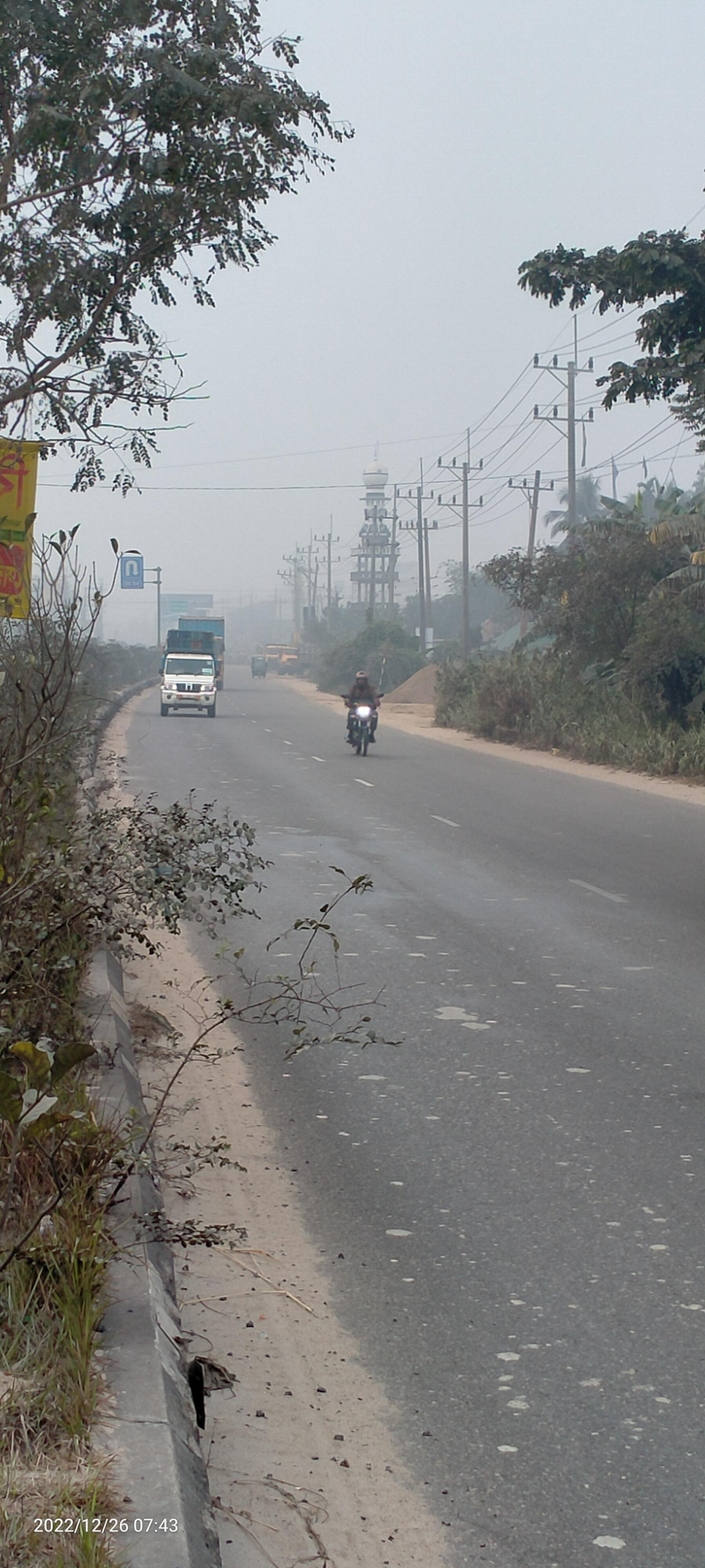Bike: (336, 661, 394, 762)
Car: (249, 654, 275, 682)
Truck: (156, 629, 219, 718), (174, 611, 237, 690)
